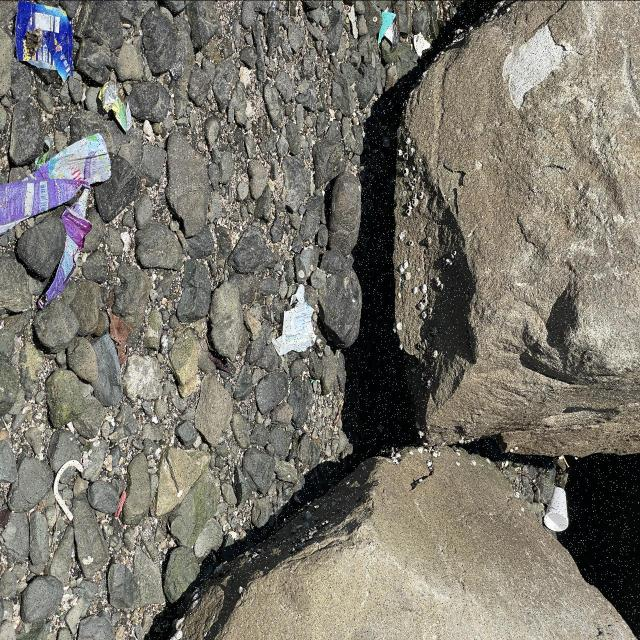plastic_waste: (5, 135, 116, 310), (13, 1, 72, 80), (273, 285, 319, 358), (99, 82, 132, 132)
styrofoam_waste: (544, 488, 570, 533)
